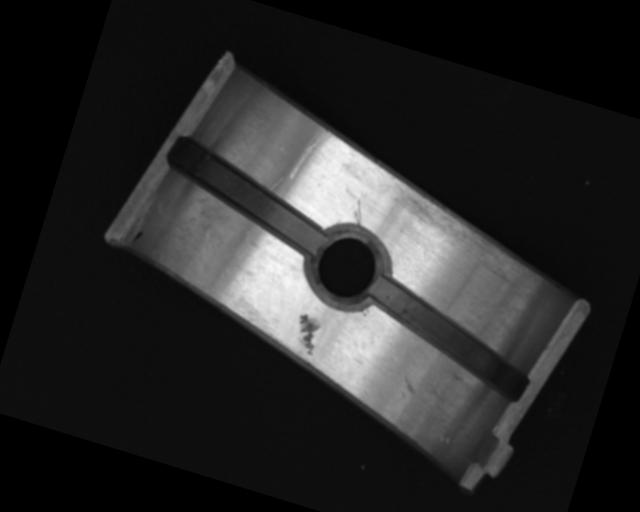blot: (130, 227, 144, 246)
bruise: (288, 311, 325, 357), (397, 375, 419, 401), (438, 433, 454, 447)
gap: (353, 270, 547, 403), (152, 133, 341, 261)
hole: (298, 218, 395, 316)
nick: (287, 123, 332, 188), (350, 198, 367, 226)
scratch: (377, 167, 562, 298)
